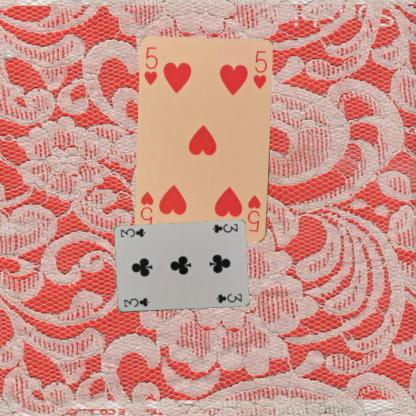3c: (121, 295, 150, 309), (209, 221, 238, 235)
5h: (142, 44, 160, 86), (245, 193, 262, 233)
